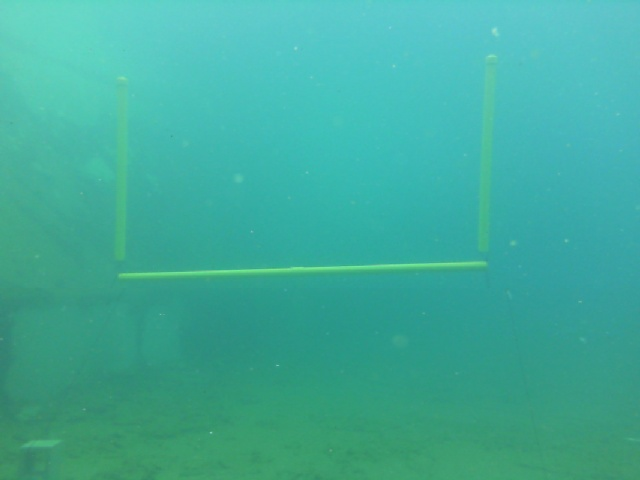channel: (110, 54, 497, 285)
